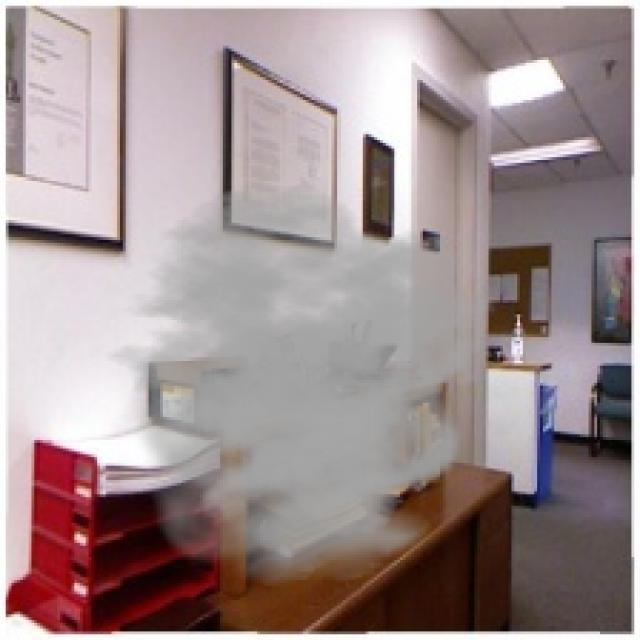Smoke: (86, 183, 497, 586)
